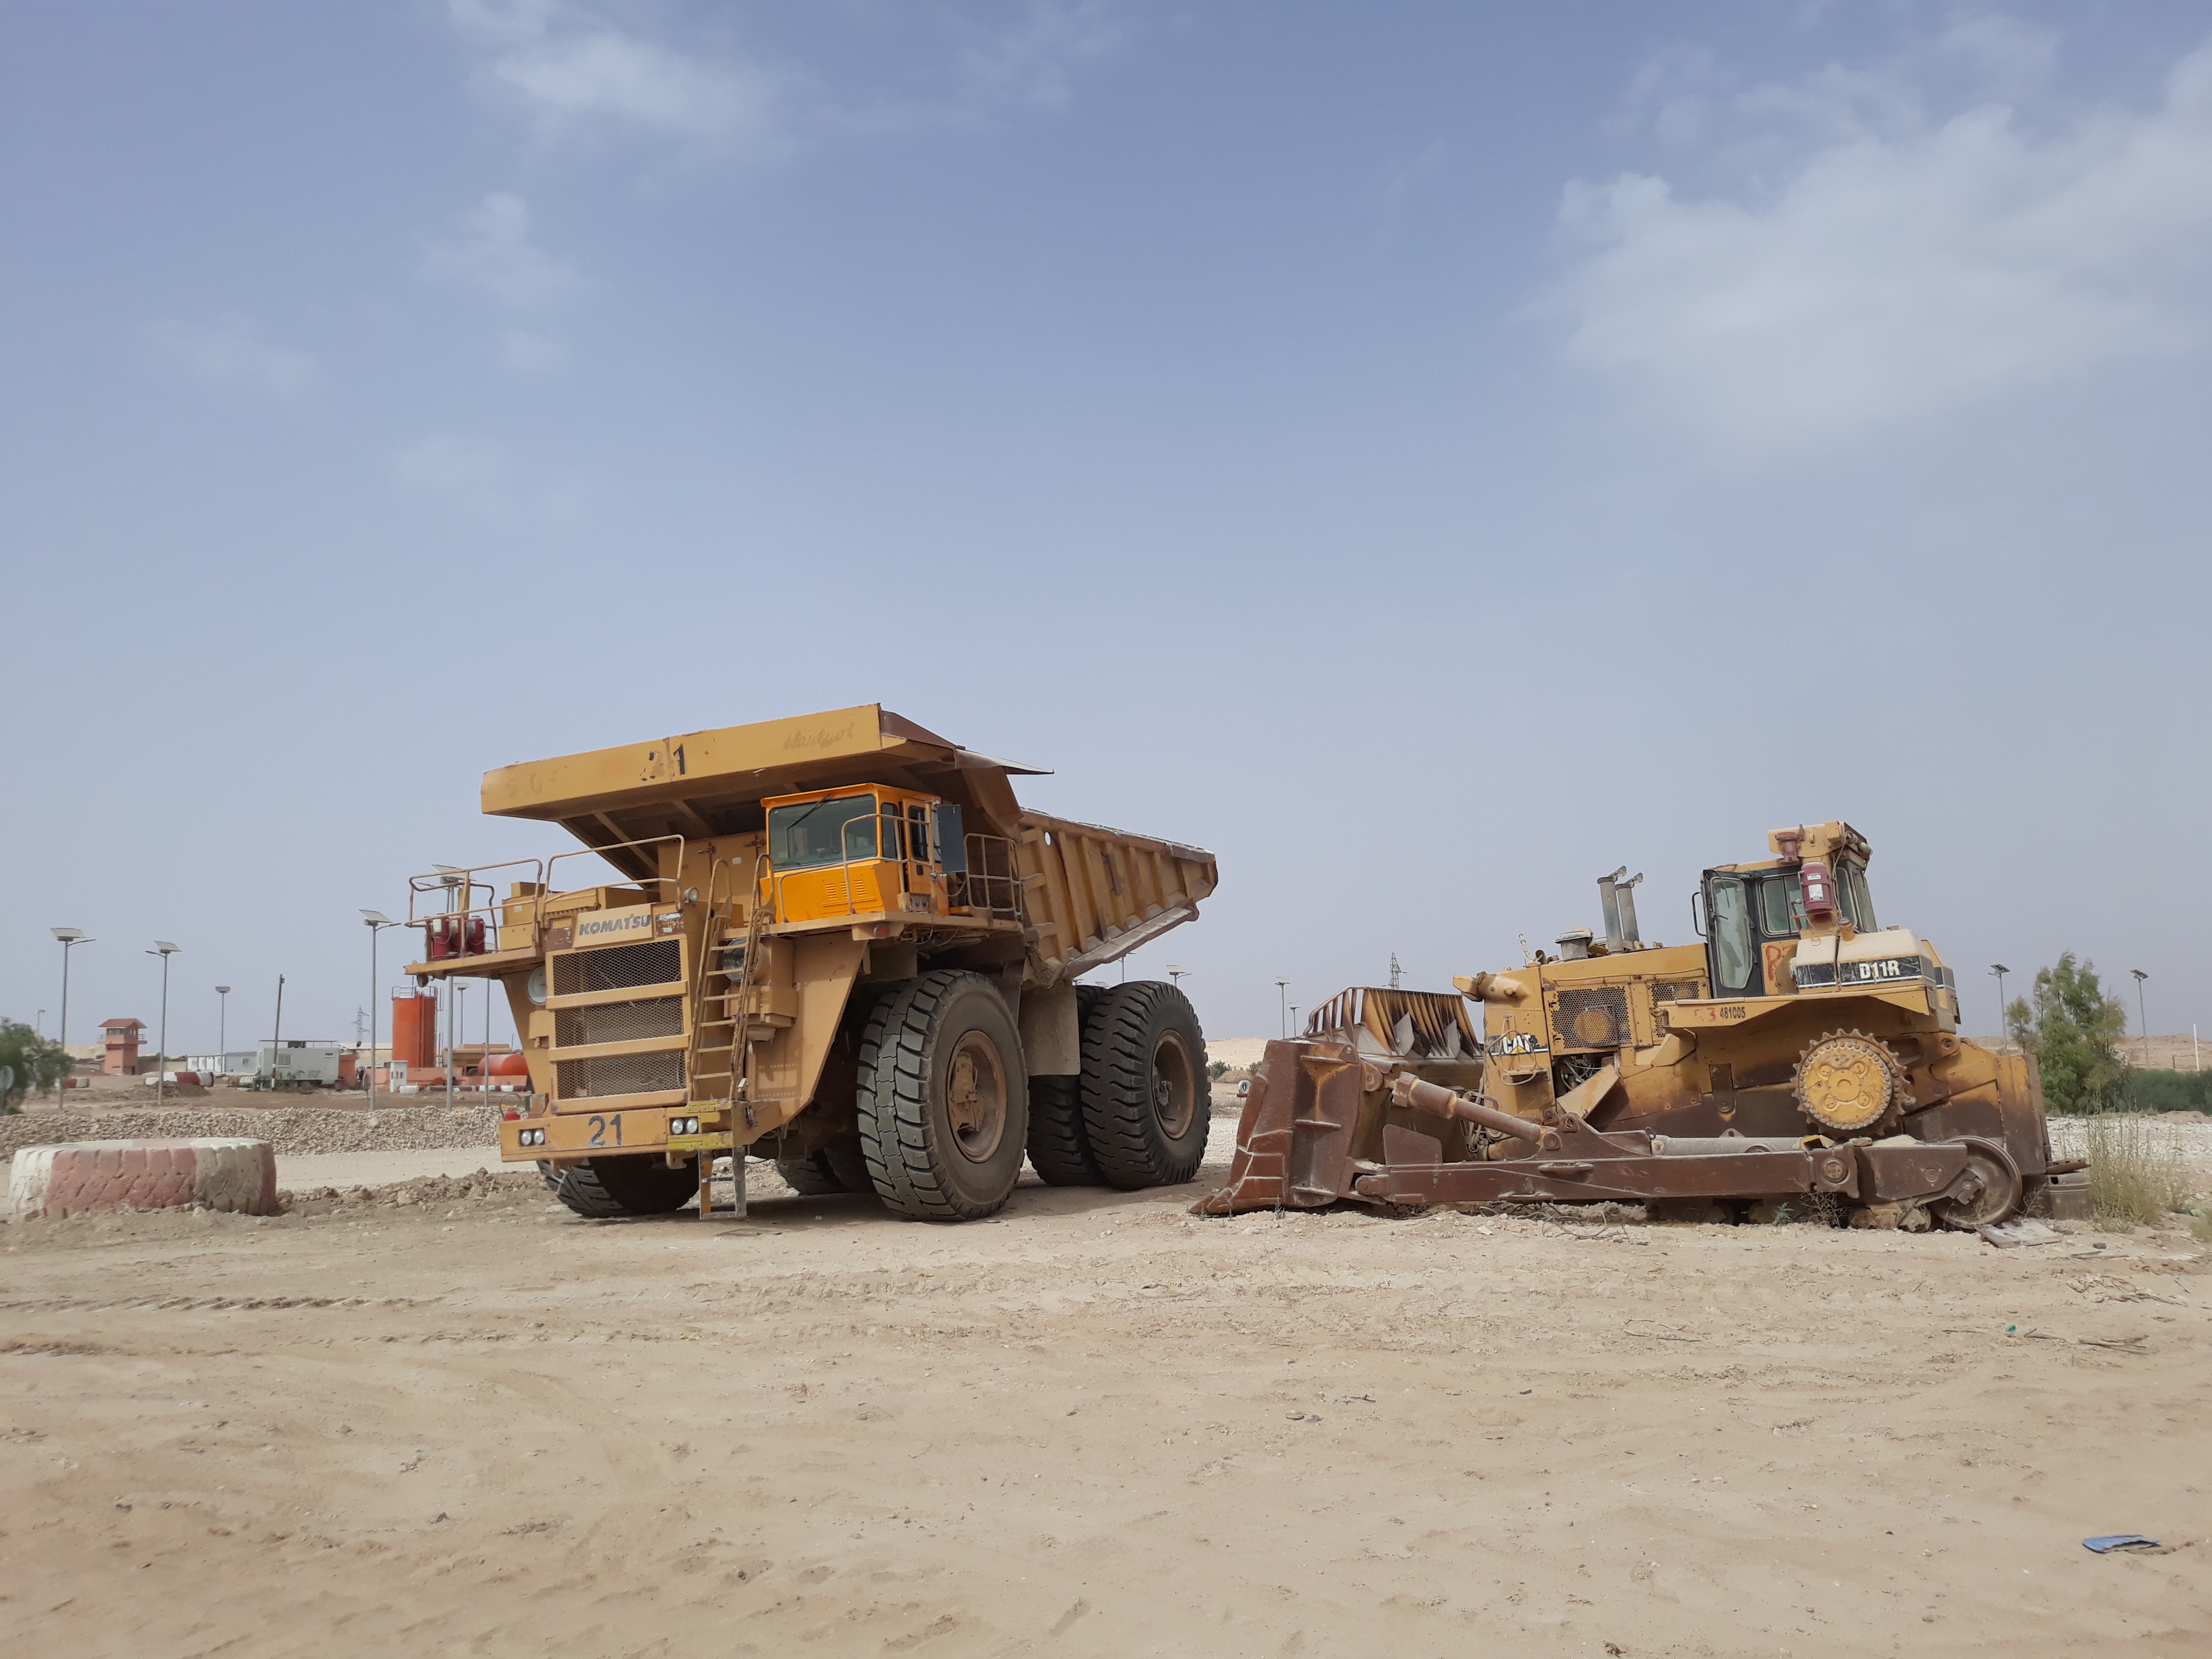bulldozer: (1212, 795, 2097, 1263)
camion: (428, 674, 1247, 1232)
